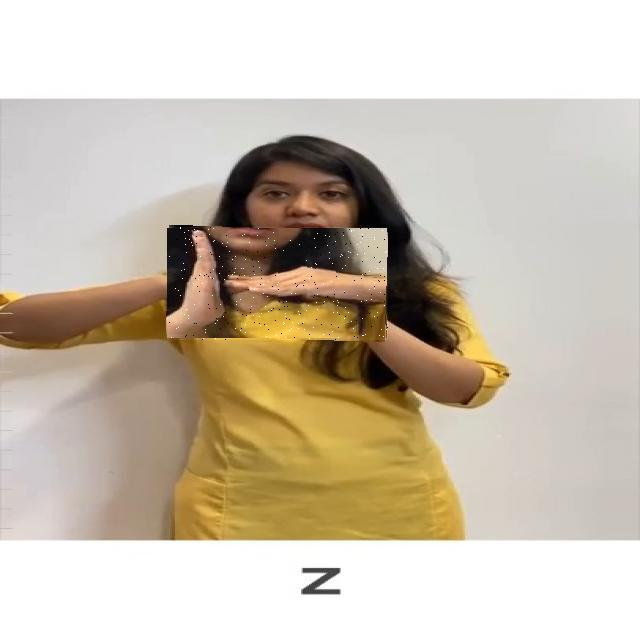Z: (167, 227, 388, 340)
